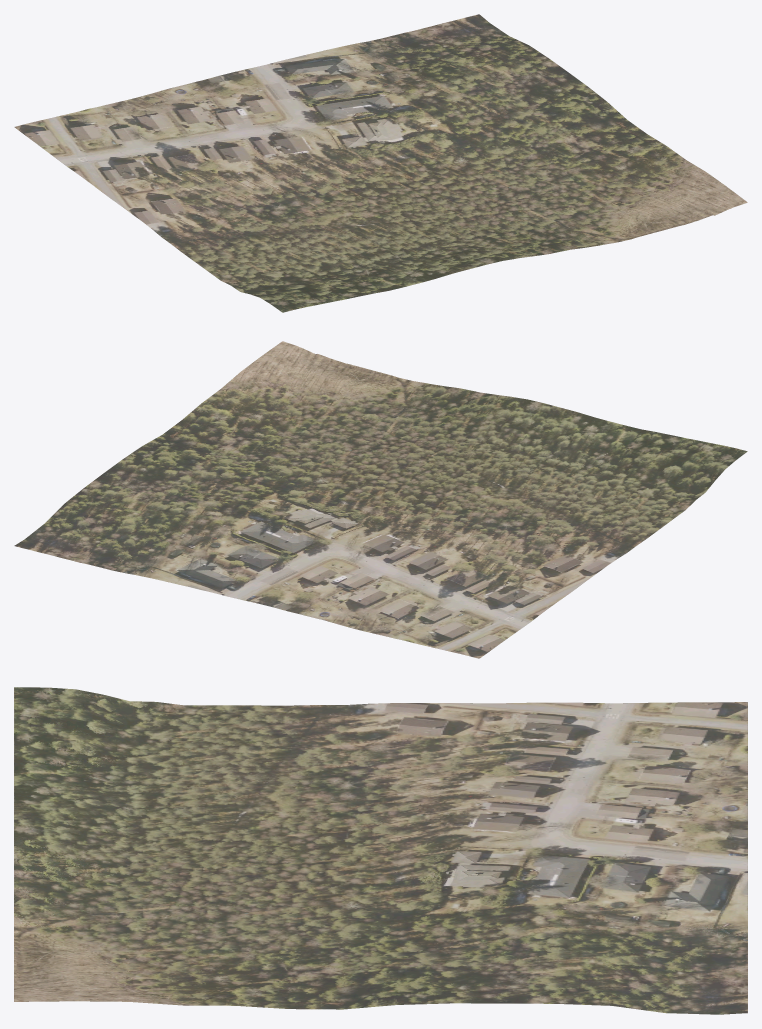
The model's file is CM_Terrain_24492097_6814264.fbx.
3 renders of one model, top to bottom at view 1: azimuth 30°, elevation 25°; view 2: azimuth 150°, elevation 25°; view 3: azimuth 270°, elevation 25°, orthographic. The views are drawn at different scales.
Visible parts, largest first — view 1: CM_Terrain_24492097_6814264_LOD0; view 2: CM_Terrain_24492097_6814264_LOD0; view 3: CM_Terrain_24492097_6814264_LOD0.
Part boxes in pixels (left/top/right/bottom): CM_Terrain_24492097_6814264_LOD0: left=14, top=14, right=747, bottom=312; CM_Terrain_24492097_6814264_LOD0: left=14, top=341, right=747, bottom=658; CM_Terrain_24492097_6814264_LOD0: left=14, top=687, right=747, bottom=1014.
Size of what is drawn, in the model's own units: 205 by 5.81 by 205.
